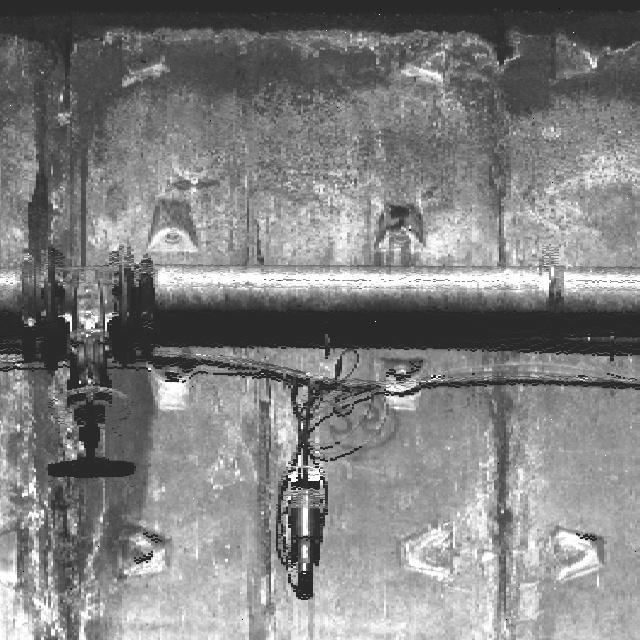leakage: (5, 0, 640, 90), (2, 360, 164, 639), (471, 352, 550, 639), (23, 139, 66, 247)
